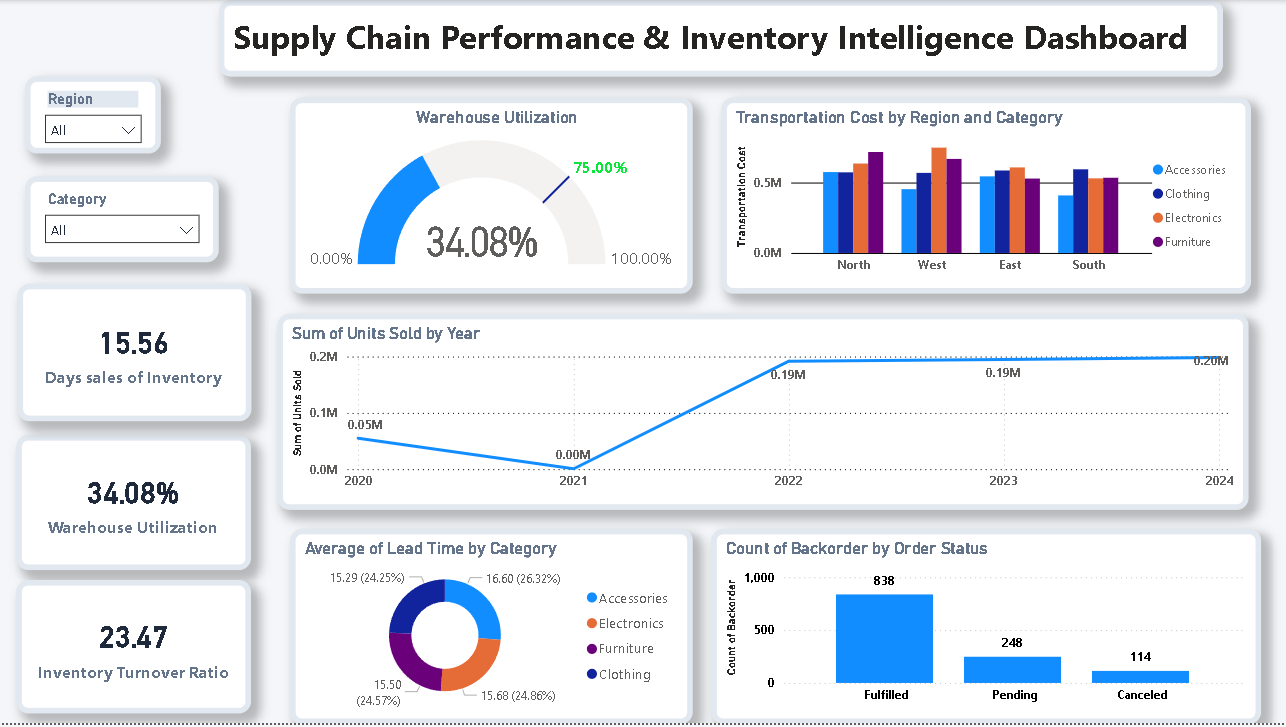

Layout of this report page (visuals, bound fields, positions):
{"tool":"powerbi","page":{"name":"Executive Summary","canvas":[1280,720],"ordinal":0},"visuals":[{"type":"textbox","box":[217.7,0,998.9,75.9],"z":0},{"type":"card","fields":{"Values":["Inventory and SupplyChain Dataset.Warehouse Utilization"]},"box":[16.2,432.9,233.9,134.3],"z":1000},{"type":"card","fields":{"Values":["Inventory and SupplyChain Dataset.Days sales of Inventory"]},"box":[17.4,282.4,232.6,136.8],"z":2000},{"type":"card","fields":{"Values":["Inventory and SupplyChain Dataset.Inventory Turnover Ratio"]},"box":[16.2,577.2,233.9,133.1],"z":3000},{"type":"slicer","fields":{"Values":["Inventory and SupplyChain Dataset.Region"]},"box":[24.9,75.9,135.6,77.1],"z":4000},{"type":"slicer","fields":{"Values":["Inventory and SupplyChain Dataset.Category"]},"box":[24.9,175.4,192.8,85.8],"z":5000},{"type":"gauge","fields":{"Y":["Inventory and SupplyChain Dataset.Warehouse Utilization"]},"box":[288.6,97,400.6,195.3],"z":6000},{"type":"clusteredColumnChart","fields":{"Y":["Sum(Inventory and SupplyChain Dataset.Transportation Cost)"],"Series":["Inventory and SupplyChain Dataset.Category"],"Category":["Inventory and SupplyChain Dataset.Region"]},"box":[717.8,97,527.4,195.3],"z":7000},{"type":"lineChart","fields":{"Y":["Sum(Inventory and SupplyChain Dataset.Units Sold)"],"Category":["Inventory and SupplyChain Dataset.Date.Variation.Date Hierarchy.Year"]},"box":[276.2,312.2,966.6,195.3],"z":8000},{"type":"donutChart","fields":{"Y":["Avg(Inventory and SupplyChain Dataset.Lead Time)"],"Category":["Inventory and SupplyChain Dataset.Category"]},"box":[288.6,526.2,400.6,194.1],"z":9000},{"type":"columnChart","fields":{"Y":["CountNonNull(Inventory and SupplyChain Dataset.Backorder)"],"Category":["Inventory and SupplyChain Dataset.Order Status"]},"box":[707.8,526.2,547.3,194.1],"z":10000}]}

Visuals, with their boxes in screenshot pixels (x1, y1, x2, y2), scaled from the page's 1280x720 canvas onto the 1286x727 screenshot:
textbox: 219,0,1222,77
card - Inventory and SupplyChain Dataset.Warehouse Utilization: 16,437,251,573
card - Inventory and SupplyChain Dataset.Days sales of Inventory: 17,285,251,423
card - Inventory and SupplyChain Dataset.Inventory Turnover Ratio: 16,583,251,717
slicer - Inventory and SupplyChain Dataset.Region: 25,77,161,154
slicer - Inventory and SupplyChain Dataset.Category: 25,177,219,264
gauge - Inventory and SupplyChain Dataset.Warehouse Utilization: 290,98,692,295
clusteredColumnChart - Sum(Inventory and SupplyChain Dataset.Transportation Cost) x Inventory and SupplyChain Dataset.Category: 721,98,1251,295
lineChart - Sum(Inventory and SupplyChain Dataset.Units Sold) x Inventory and SupplyChain Dataset.Date.Variation.Date Hierarchy.Year: 277,315,1249,512
donutChart - Avg(Inventory and SupplyChain Dataset.Lead Time) x Inventory and SupplyChain Dataset.Category: 290,531,692,726
columnChart - CountNonNull(Inventory and SupplyChain Dataset.Backorder) x Inventory and SupplyChain Dataset.Order Status: 711,531,1261,726
